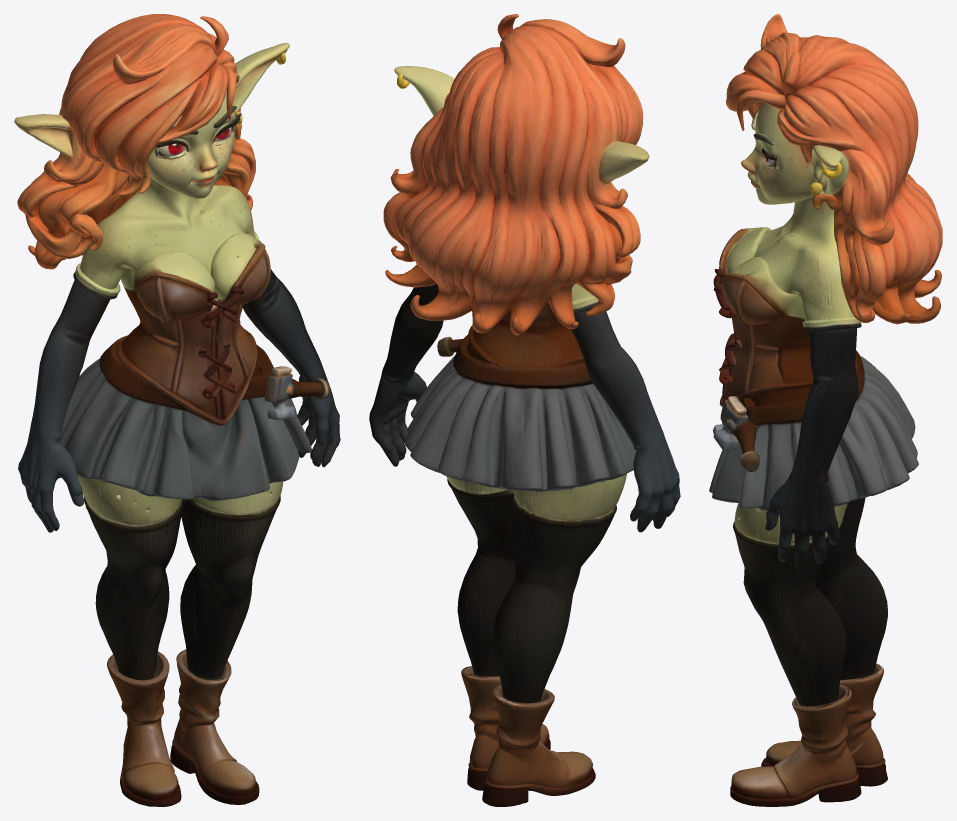
Rendered from oficina-3d-fagulha.glb.
The picture shows the model from 3 angles, left to right: view 1: azimuth 30°, elevation 25°; view 2: azimuth 150°, elevation 25°; view 3: azimuth 270°, elevation 25°; orthographic projection. The views are drawn at different scales.
Parts seen in each view (by area): view 1: model; view 2: model; view 3: model.
Boxes of the visible parts, <box> form: model: <box>14,14,340,806</box>; model: <box>369,14,680,806</box>; model: <box>709,14,942,806</box>.
Size of the model in its own units: 0.7836 by 1.89 by 0.541.
1 material, 1 textured.
